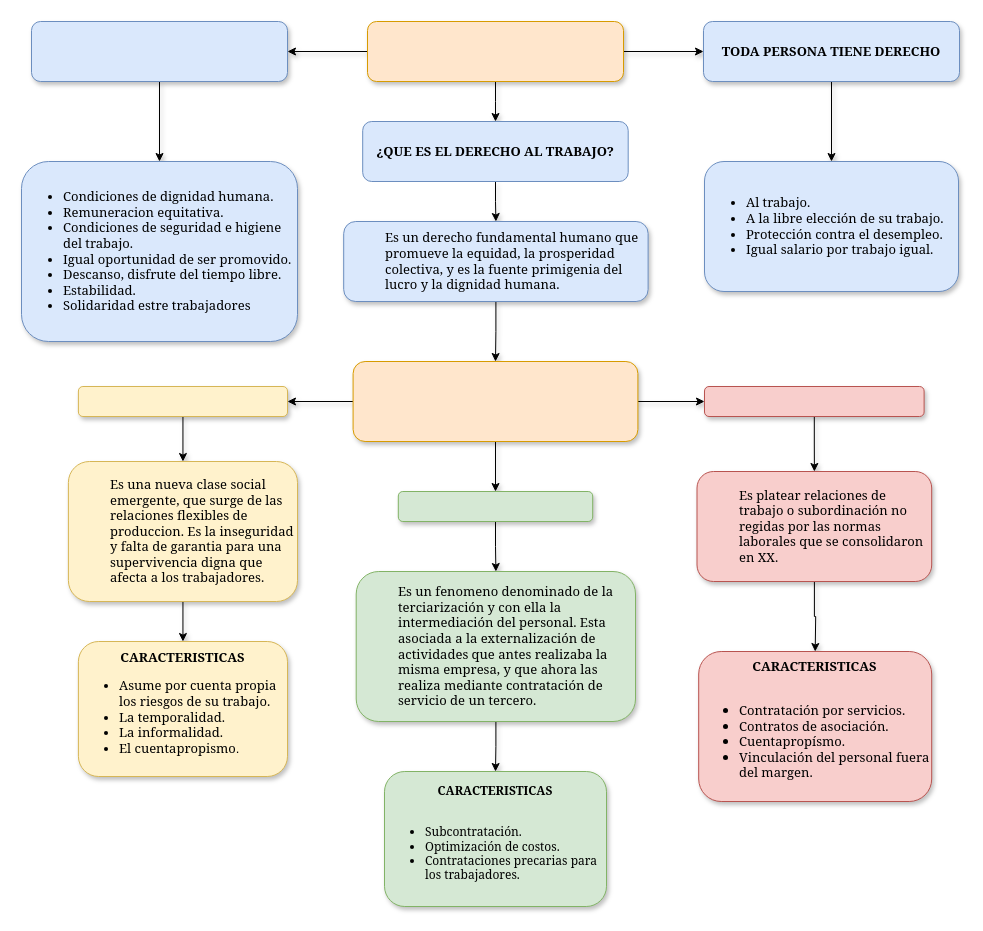
Image size: 983x931. Some labels were removed from this diagram. The shapes that lost their labels are listed below. From the top down, each one's centre as x and y in pixels, then its label:
the point at 160,52: CARACTERISTICAS
the point at 496,52: "CAMBIOS EN EL MUNDO DEL TRABAJO"
the point at 183,403: LA PRECARIZACIÓN
the point at 496,402: CAMBIOS TRANSICIONALES
the point at 815,403: LA DESLABORARIZACIÓN
the point at 496,507: LA TERCIARIZACIÓN
